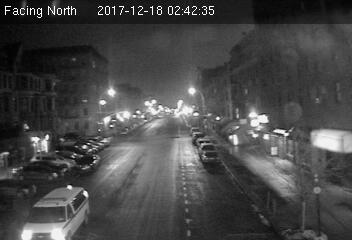car: (74, 152, 101, 173), (200, 150, 221, 163)
truck: (17, 185, 92, 240)
